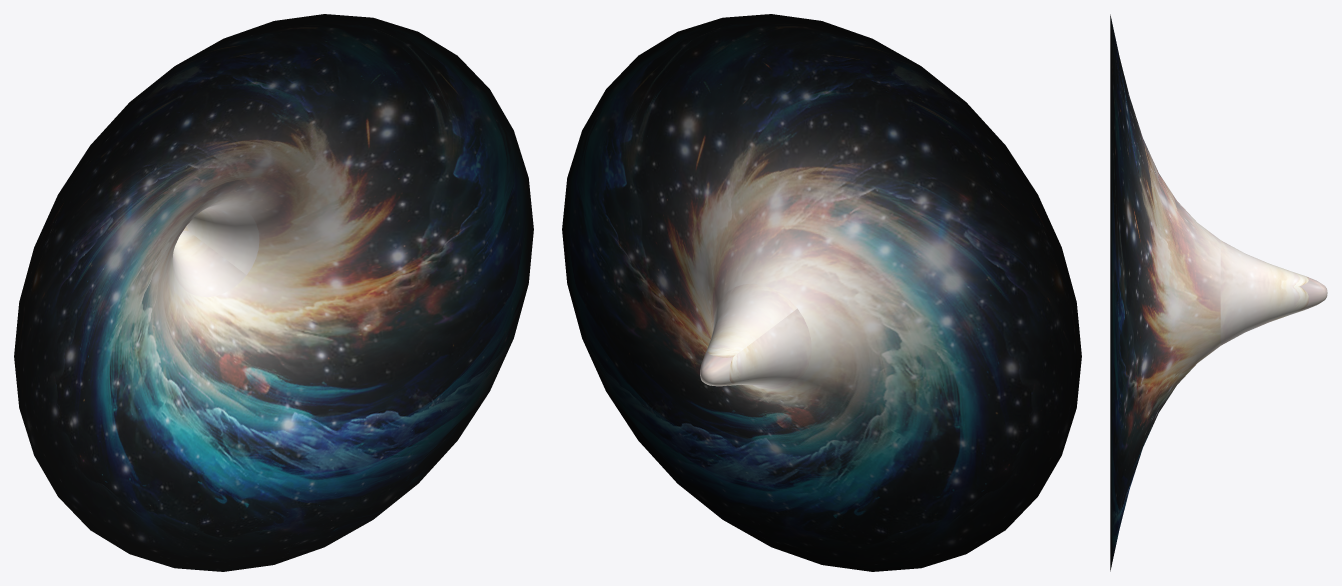
Rendered from Portal.fbx.
The picture shows the model from 3 angles, left to right: view 1: azimuth 30°, elevation 25°; view 2: azimuth 150°, elevation 25°; view 3: azimuth 270°, elevation 25°; orthographic projection. The views are drawn at different scales.
Parts seen in each view (by area): view 1: Plane; view 2: Plane; view 3: Plane.
Boxes of the visible parts, box(x1,y1,x2,y2) form: Plane: box(14, 14, 533, 571); Plane: box(562, 14, 1081, 571); Plane: box(1110, 14, 1327, 571).
Size of the model in its own units: 7206 by 7206 by 2798.
Materials: 1 (1 with a texture image).
